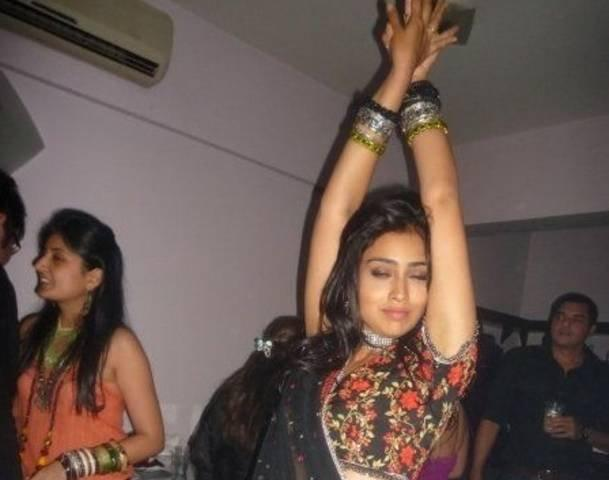Drunk: (368, 234, 429, 332)
